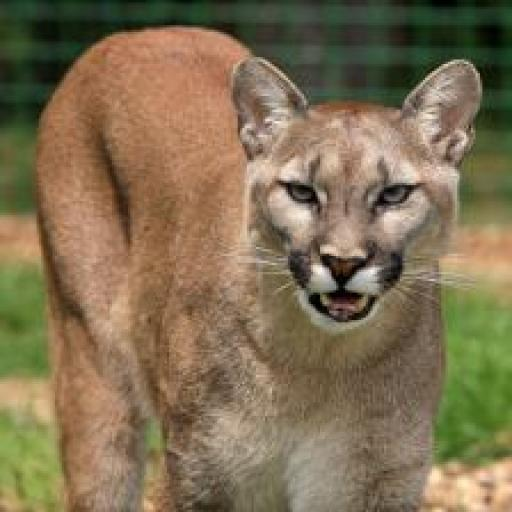lion: (41, 20, 497, 512)
